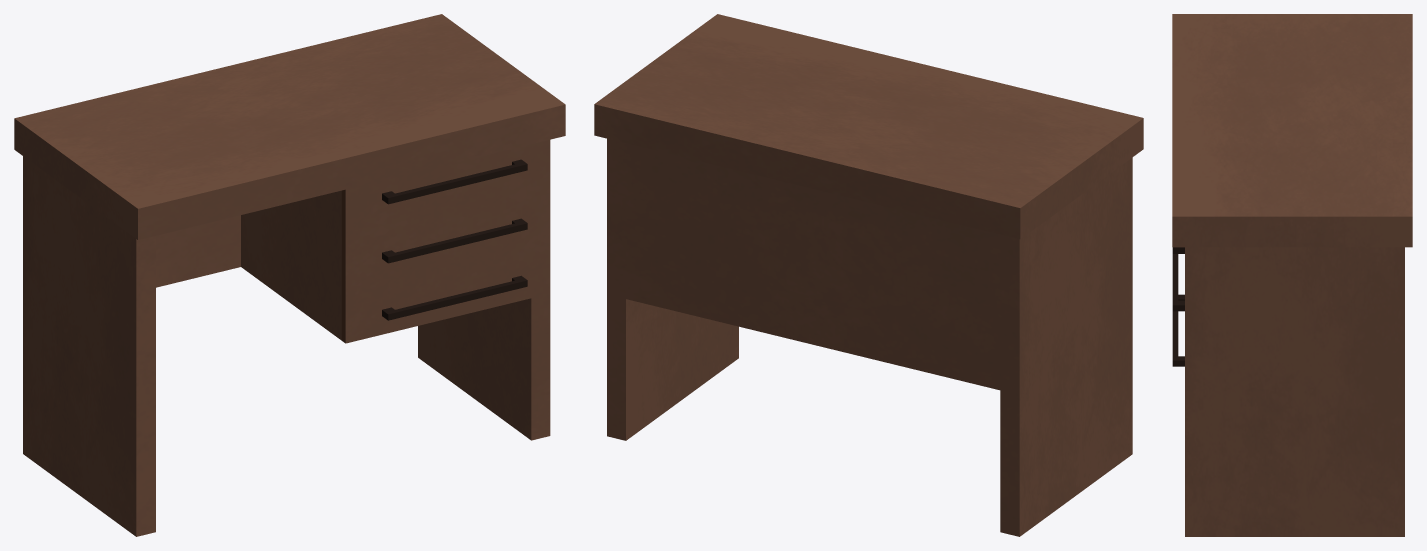
The picture shows the model from 3 angles, left to right: view 1: azimuth 30°, elevation 25°; view 2: azimuth 150°, elevation 25°; view 3: azimuth 270°, elevation 25°; orthographic projection. The views are drawn at different scales.
Visible parts, largest first — view 1: pCube1, pCube5; view 2: pCube1; view 3: pCube1, pCube5.
Part boxes in pixels (<box>): pCube1: <box>14,14,565,536</box>; pCube5: <box>382,159,527,320</box>; pCube1: <box>594,14,1143,536</box>; pCube1: <box>1172,14,1412,536</box>; pCube5: <box>1172,247,1184,366</box>.
Size of the model in its own units: 8.03 by 5.99 by 4.02.
1 material, 1 textured.
